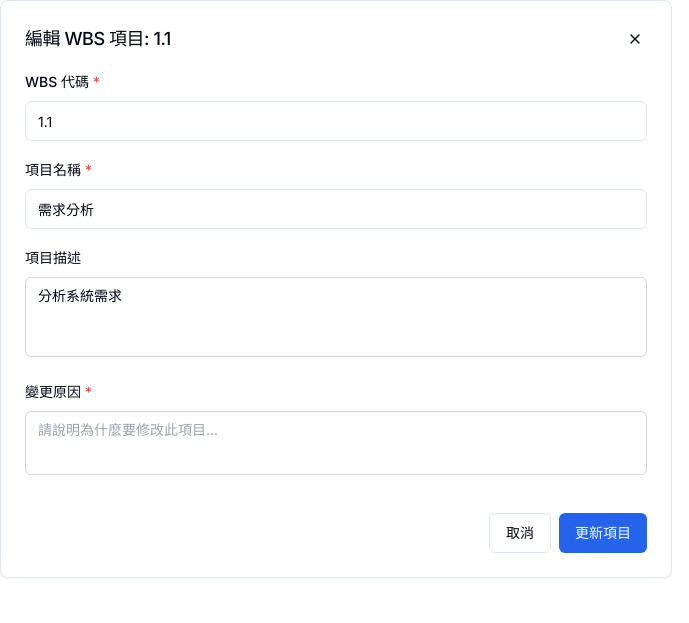
it: WBSItemForm Component › Edit Mode › should require change reason for edits
Click the button "更新項目".
click(603, 533)  # box [559, 513, 647, 553]
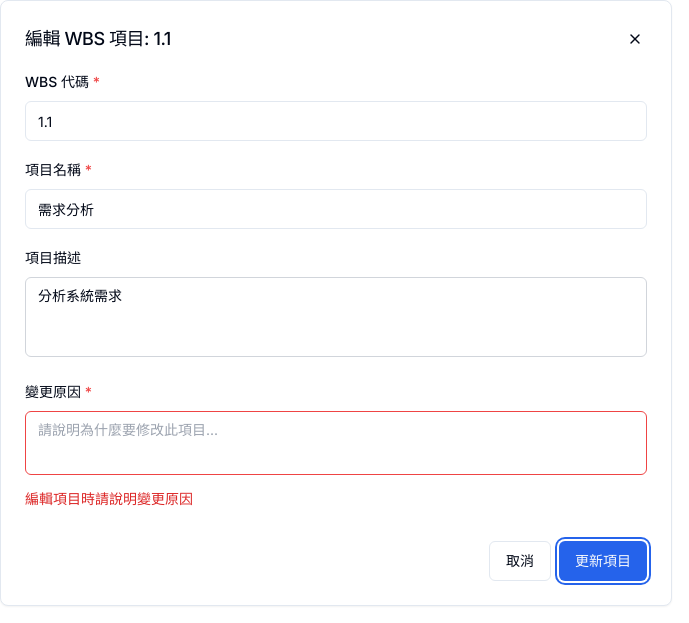
Now the text "編輯項目時請說明變更原因" is shown, box [25, 490, 193, 507]
